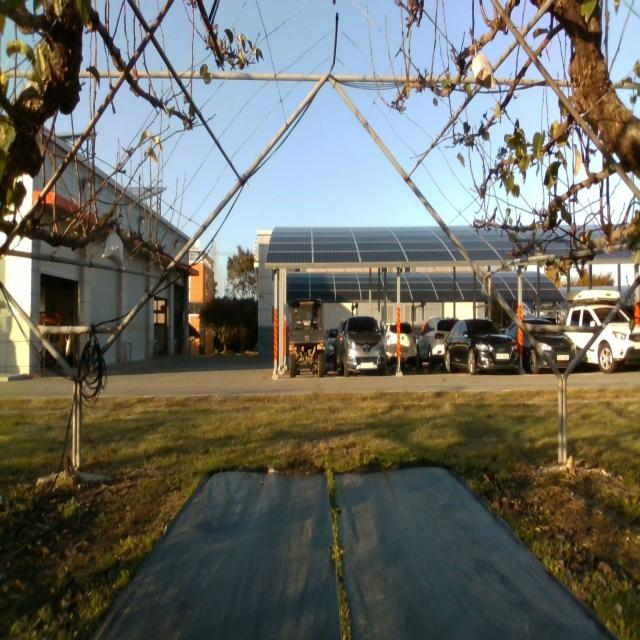pearbags: (472, 45, 495, 88), (102, 224, 124, 268)
